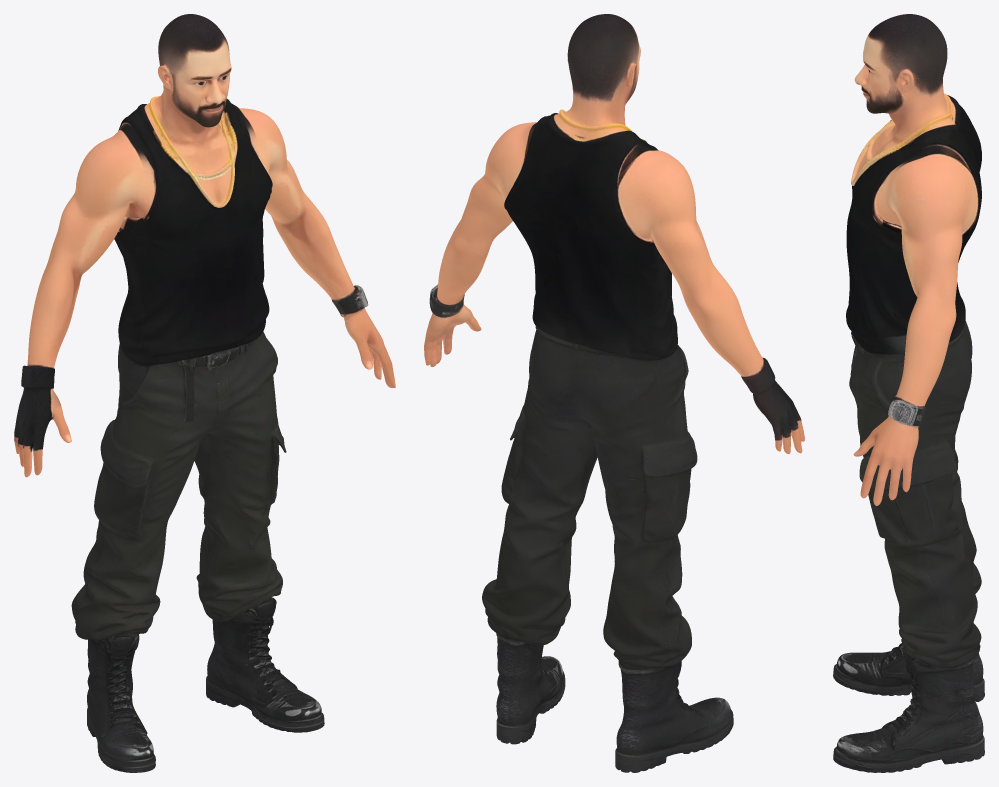
File: dex.glb
The picture shows the model from 3 angles, left to right: view 1: azimuth 30°, elevation 25°; view 2: azimuth 150°, elevation 25°; view 3: azimuth 270°, elevation 25°; orthographic projection.
Size of the model in its own units: 1.02 by 1.9 by 0.3682.
Materials: 1 (1 with a texture image).
